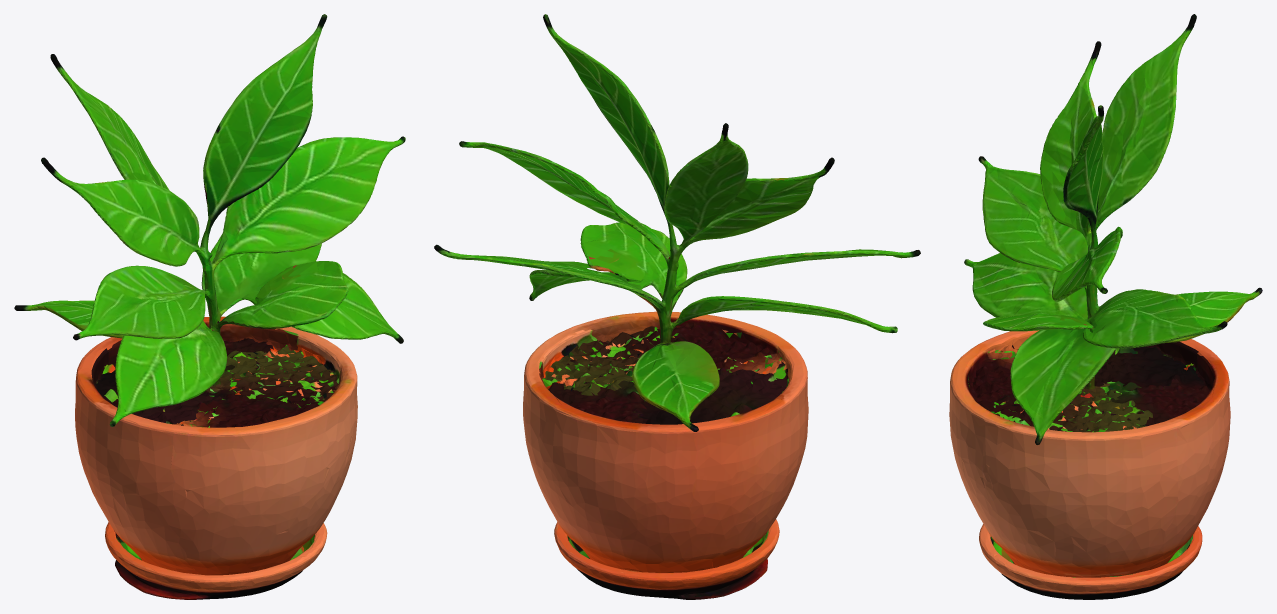
The model's file is growth-planter-b-generated-2026-04-18T01-36-15-986Z.medium.glb.
3 renders of one model, left to right at view 1: azimuth 30°, elevation 25°; view 2: azimuth 150°, elevation 25°; view 3: azimuth 270°, elevation 25°, orthographic.
Visible parts, largest first — view 1: temp_mesh.ply; view 2: temp_mesh.ply; view 3: temp_mesh.ply.
Boxes of the visible parts, x1,y1,x2,y2 form: temp_mesh.ply: (14, 14, 405, 599); temp_mesh.ply: (434, 14, 920, 599); temp_mesh.ply: (949, 14, 1262, 599).
Bounding box in the file's own units: 1.57 × 1.97 × 1.08.
Materials: 1 (1 with a texture image).
